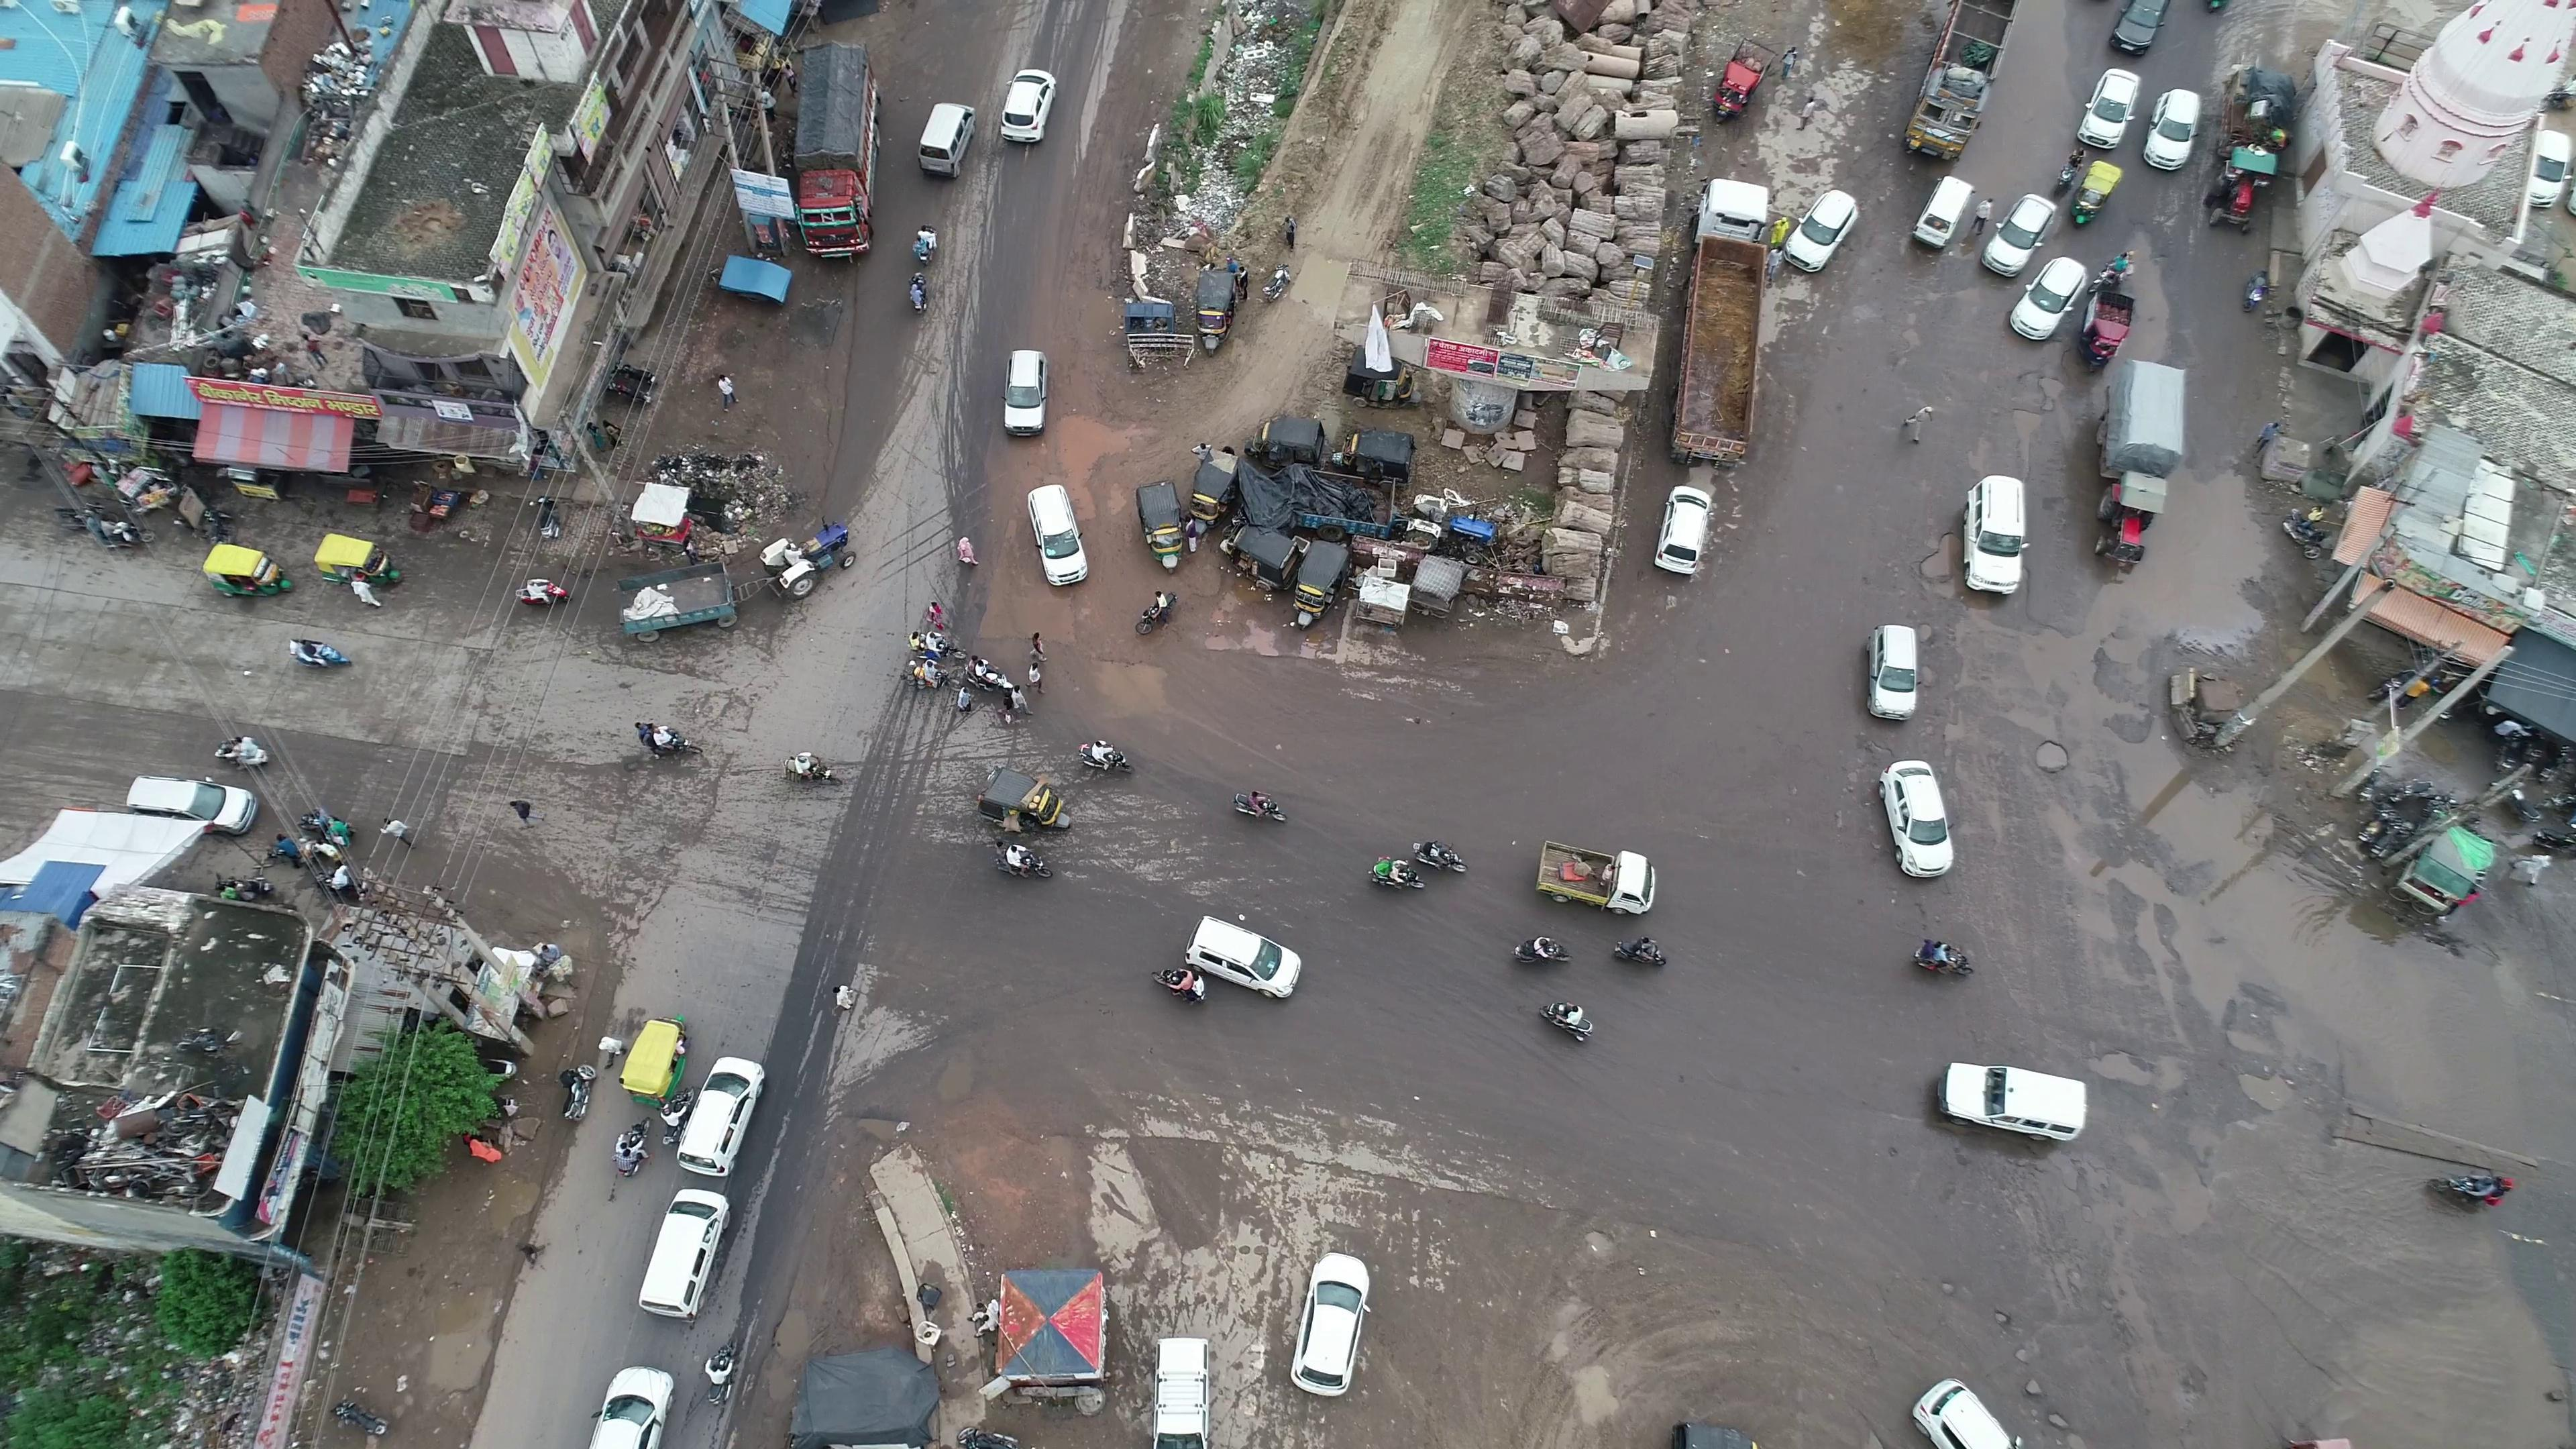Potholes: (2001, 1311, 2127, 1449), (1897, 518, 1966, 649), (2017, 722, 2098, 823)
Waterlogging: (2123, 745, 2371, 1040), (2111, 446, 2266, 637)
